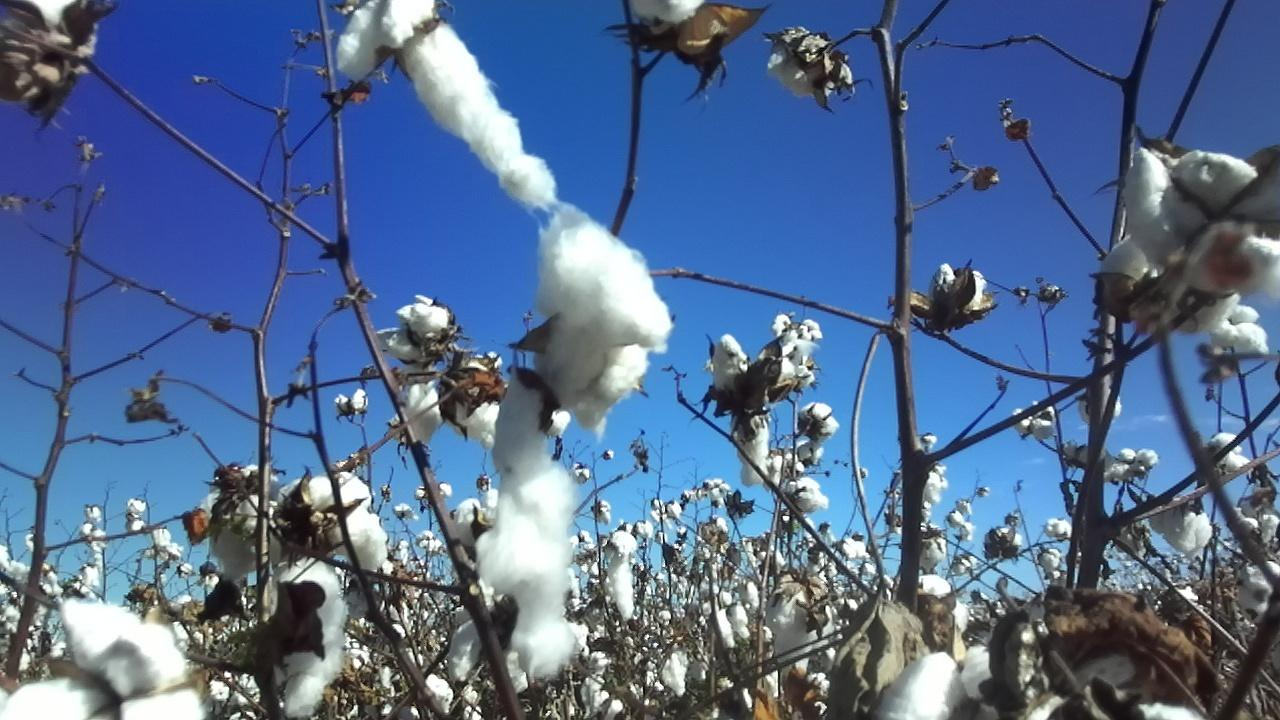cotton_ready: (336, 0, 672, 350), (475, 379, 579, 677), (1, 595, 205, 720), (1098, 152, 1239, 328), (1164, 147, 1264, 297), (710, 330, 797, 490), (539, 321, 649, 435), (272, 562, 345, 720), (1027, 655, 1202, 720), (1, 0, 104, 110), (281, 471, 389, 570), (449, 577, 529, 694), (878, 644, 1000, 720), (202, 462, 276, 577), (764, 585, 834, 678), (375, 292, 453, 365), (445, 355, 501, 449), (766, 37, 835, 102), (1214, 303, 1274, 357), (606, 528, 639, 621), (1155, 501, 1212, 554), (920, 574, 967, 638), (451, 489, 502, 547), (400, 381, 447, 442), (1245, 234, 1280, 313), (422, 672, 482, 718), (1239, 559, 1280, 626), (935, 266, 987, 317), (633, 0, 707, 25)
